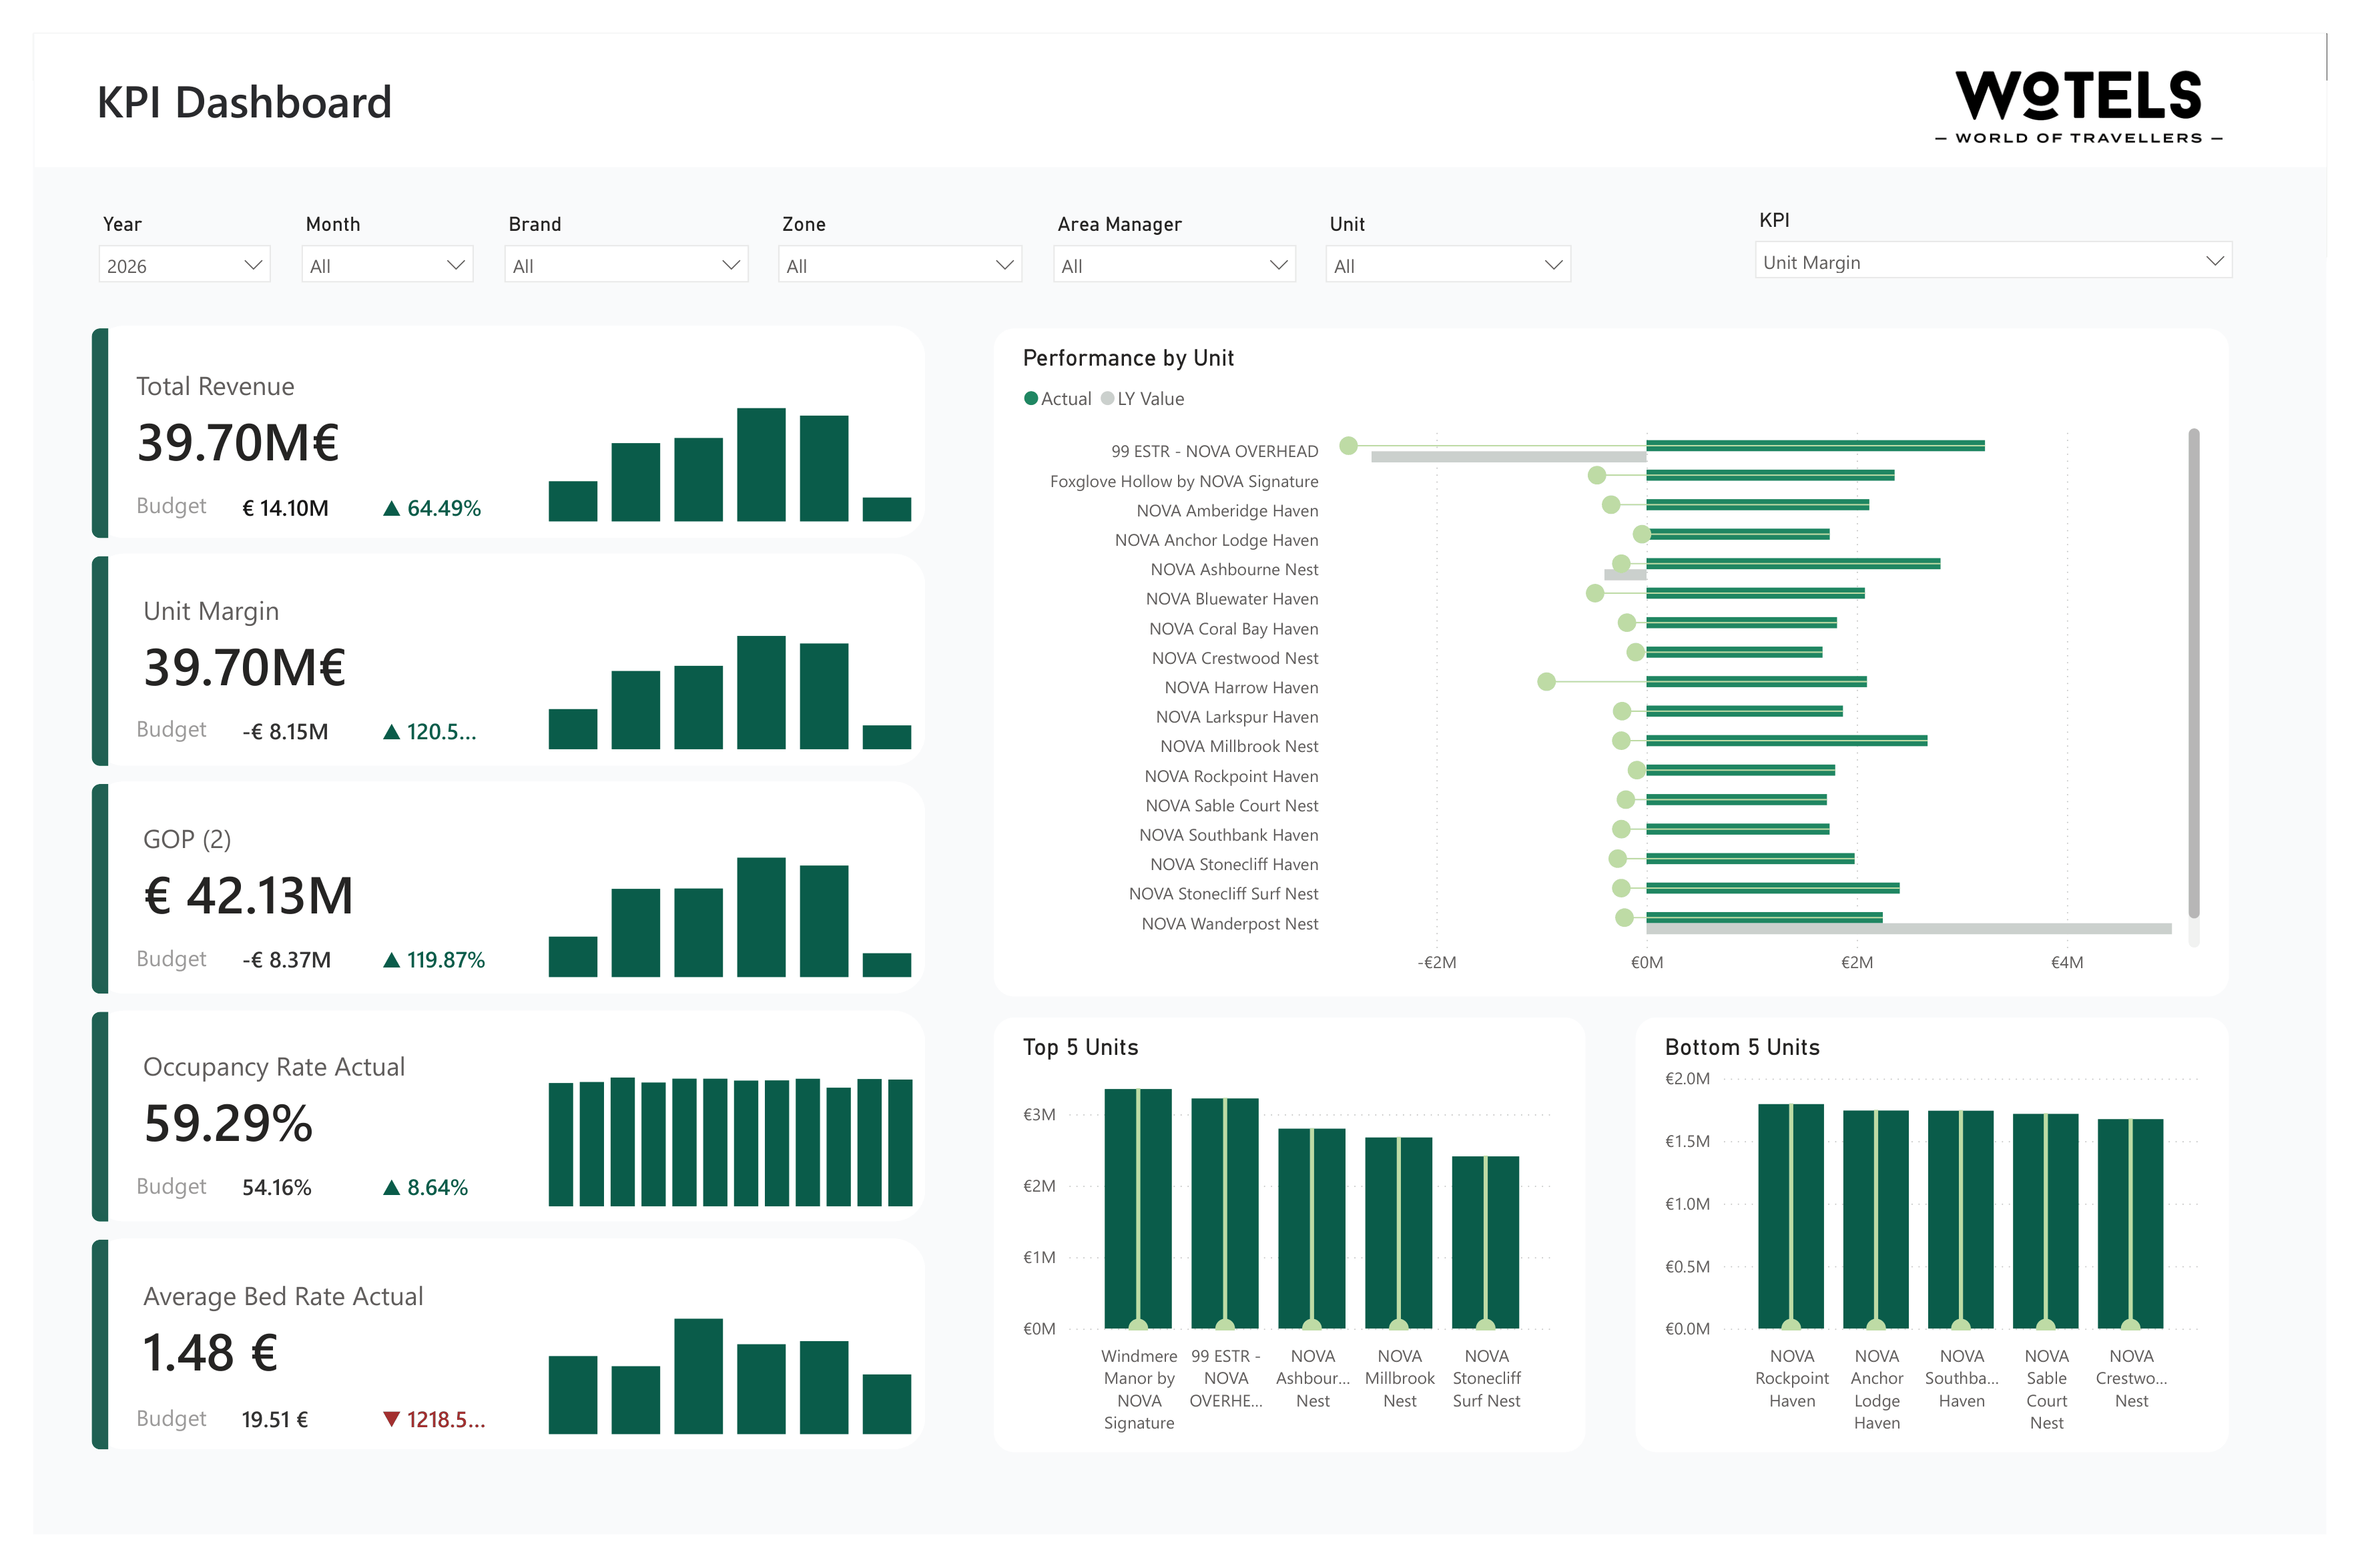

This screenshot's page, from the dashboard's own definition file:
{"tool":"powerbi","page":{"name":"KPIs Dashboard","canvas":[1650,1080],"ordinal":0},"visuals":[{"type":"group","id":"g1","title":"Background Shapes","box":[1.4,0,1918.2,97.7],"z":0},{"type":"shape","box":[1.4,0,1918.2,95.9],"z":1000,"group":"g1"},{"type":"slicer","fields":{"Values":["DateTable.Year"]},"box":[41.7,124.3,139.3,72.4],"z":1000},{"type":"image","box":[1365.2,1.8,213.5,95.9],"z":2000,"group":"g1"},{"type":"shape","box":[41.9,210.3,600,152.8],"z":2000},{"type":"textbox","box":[40.5,19.9,244.3,61.5],"z":3000,"group":"g1"},{"type":"shape","box":[41.9,374.4,600,152.8],"z":3000},{"type":"shape","box":[41.9,538.5,600,152.8],"z":4000},{"type":"shape","box":[41.9,702.6,600,152.8],"z":5000},{"type":"shape","box":[41.9,866.7,600,152.8],"z":6000},{"type":"shape","box":[41.9,212.1,12.4,151],"z":7000},{"type":"clusteredBarChart","title":"Performance by Unit","fields":{"Category":["units.Unit Description"],"Y":["KPI Table.Actual Value","KPI Table.LY Value"]},"box":[691,211.7,888.5,481.4],"z":8000},{"type":"shape","box":[41.9,376.2,12.4,151],"z":9000},{"type":"shape","box":[41.9,540.3,12.4,151],"z":10000},{"type":"shape","box":[41.9,704.4,12.4,151],"z":11000},{"type":"shape","box":[41.9,868.4,12.4,151],"z":12000},{"type":"cardVisual","fields":{"Data":["OccupancyKPIs.Rendimentos Actual"]},"box":[62.2,223.1,315,105],"z":13000},{"type":"lineClusteredColumnComboChart","title":"Top 5 Units","fields":{"Category":["units.Unit Description"],"Y":["KPI Table.Actual Value"]},"box":[691.3,707.6,426,313.1],"z":14000},{"type":"cardVisual","fields":{"Data":["OccupancyKPIs.Unit Margin Actual"]},"box":[62.2,387.2,315,105],"z":15000},{"type":"cardVisual","fields":{"Data":["OccupancyKPIs.GOP (2) Actual"]},"box":[62.2,551.3,315,105],"z":16000},{"type":"cardVisual","fields":{"Data":["OccupancyKPIs.Occupancy Rate Actual"]},"box":[62.2,715.4,315,105],"z":17000},{"type":"cardVisual","fields":{"Data":["OccupancyKPIs.Average Bed Rate Actual"]},"box":[62.2,879.5,315,105],"z":18000},{"type":"textbox","box":[68.8,323.1,121.7,31.7],"z":19000},{"type":"textbox","box":[68.8,484.4,121.7,31.7],"z":20000},{"type":"textbox","box":[68.8,648.5,121.7,31.7],"z":21000},{"type":"textbox","box":[68.8,812.6,121.7,31.7],"z":22000},{"type":"textbox","box":[68.8,979.5,121.7,31.7],"z":23000},{"type":"cardVisual","fields":{"Data":["OccupancyKPIs.Rendimentos Budget","OccupancyKPIs.Rendimentos Variance %"]},"box":[132.9,317.5,212.8,42.9],"z":24000},{"type":"cardVisual","fields":{"Data":["OccupancyKPIs.Unit Margin Budget","OccupancyKPIs.Unit Margin Variance %"]},"box":[132.9,478.8,212.8,42.9],"z":25000},{"type":"cardVisual","fields":{"Data":["OccupancyKPIs.GOP (2) Budget","OccupancyKPIs.GOP (2) Variance %"]},"box":[132.9,642.9,212.8,42.9],"z":26000},{"type":"cardVisual","fields":{"Data":["OccupancyKPIs.Occupancy Rate Budget","OccupancyKPIs.Occupancy Rate Variance"]},"box":[132.9,807,212.8,42.9],"z":27000},{"type":"cardVisual","fields":{"Data":["OccupancyKPIs.Average Bed Rate Budget","OccupancyKPIs.ABR Variance %"]},"box":[132.9,973.9,212.8,42.9],"z":28000},{"type":"clusteredColumnChart","fields":{"Category":["DateTable.Month Short"],"Y":["OccupancyKPIs.Rendimentos Actual"]},"box":[366,216.1,271.8,141.3],"z":29000},{"type":"clusteredColumnChart","fields":{"Category":["DateTable.Month Short"],"Y":["OccupancyKPIs.Unit Margin Actual"]},"box":[366,380.1,271.8,141.3],"z":30000},{"type":"clusteredColumnChart","fields":{"Category":["DateTable.Month Short"],"Y":["OccupancyKPIs.GOP (2) Actual"]},"box":[366,544.2,271.8,141.3],"z":31000},{"type":"clusteredColumnChart","fields":{"Category":["DateTable.Month Short"],"Y":["OccupancyKPIs.Occupancy Rate Actual"]},"box":[366,708.3,271.8,141.3],"z":32000},{"type":"clusteredColumnChart","fields":{"Category":["DateTable.Month Short"],"Y":["OccupancyKPIs.Average Bed Rate Actual"]},"box":[366,872.4,271.8,141.3],"z":33000},{"type":"slicer","title":"KPI","fields":{"Values":["KPI Table.KPI"]},"box":[1234.2,121.2,363.7,79.6],"z":34000},{"type":"slicer","fields":{"Values":["DateTable.Month Name"]},"box":[188.1,124.3,139.3,72.4],"z":35000},{"type":"slicer","fields":{"Values":["units.Brands"]},"box":[333.5,124.3,191.8,72.4],"z":36000},{"type":"slicer","fields":{"Values":["units.ZONE"]},"box":[531.5,124.3,191,72.4],"z":37000},{"type":"slicer","fields":{"Values":["units.Area Manager"]},"box":[728.6,124.3,190,72.4],"z":38000},{"type":"lineClusteredColumnComboChart","title":"Bottom 5 Units","fields":{"Category":["units.Unit Description"],"Y":["KPI Table.Actual Value"]},"box":[1153.5,708,426.7,313.4],"z":39000},{"type":"slicer","fields":{"Values":["units.CODE ID"]},"box":[924.7,124.3,191.8,72.4],"z":40000}]}

Visuals, with their boxes on the page's 1650x1080 design canvas (x1, y1, x2, y2). These are canvas units, not pixel positions in the 2360x1568 screenshot, which may show the page scaled, cropped or inside an application window:
"Background Shapes" group: region(1, 0, 1920, 98)
shape: region(1, 0, 1920, 96)
slicer - DateTable.Year: region(42, 124, 181, 197)
image: region(1365, 2, 1579, 98)
shape: region(42, 210, 642, 363)
textbox: region(40, 20, 285, 81)
shape: region(42, 374, 642, 527)
shape: region(42, 538, 642, 691)
shape: region(42, 703, 642, 855)
shape: region(42, 867, 642, 1020)
shape: region(42, 212, 54, 363)
"Performance by Unit" clusteredBarChart: region(691, 212, 1580, 693)
shape: region(42, 376, 54, 527)
shape: region(42, 540, 54, 691)
shape: region(42, 704, 54, 855)
shape: region(42, 868, 54, 1019)
cardVisual - OccupancyKPIs.Rendimentos Actual: region(62, 223, 377, 328)
"Top 5 Units" lineClusteredColumnComboChart: region(691, 708, 1117, 1021)
cardVisual - OccupancyKPIs.Unit Margin Actual: region(62, 387, 377, 492)
cardVisual - OccupancyKPIs.GOP (2) Actual: region(62, 551, 377, 656)
cardVisual - OccupancyKPIs.Occupancy Rate Actual: region(62, 715, 377, 820)
cardVisual - OccupancyKPIs.Average Bed Rate Actual: region(62, 880, 377, 984)
textbox: region(69, 323, 190, 355)
textbox: region(69, 484, 190, 516)
textbox: region(69, 648, 190, 680)
textbox: region(69, 813, 190, 844)
textbox: region(69, 980, 190, 1011)
cardVisual - OccupancyKPIs.Rendimentos Budget x OccupancyKPIs.Rendimentos Variance %: region(133, 318, 346, 360)
cardVisual - OccupancyKPIs.Unit Margin Budget x OccupancyKPIs.Unit Margin Variance %: region(133, 479, 346, 522)
cardVisual - OccupancyKPIs.GOP (2) Budget x OccupancyKPIs.GOP (2) Variance %: region(133, 643, 346, 686)
cardVisual - OccupancyKPIs.Occupancy Rate Budget x OccupancyKPIs.Occupancy Rate Variance: region(133, 807, 346, 850)
cardVisual - OccupancyKPIs.Average Bed Rate Budget x OccupancyKPIs.ABR Variance %: region(133, 974, 346, 1017)
clusteredColumnChart - DateTable.Month Short x OccupancyKPIs.Rendimentos Actual: region(366, 216, 638, 357)
clusteredColumnChart - DateTable.Month Short x OccupancyKPIs.Unit Margin Actual: region(366, 380, 638, 521)
clusteredColumnChart - DateTable.Month Short x OccupancyKPIs.GOP (2) Actual: region(366, 544, 638, 686)
clusteredColumnChart - DateTable.Month Short x OccupancyKPIs.Occupancy Rate Actual: region(366, 708, 638, 850)
clusteredColumnChart - DateTable.Month Short x OccupancyKPIs.Average Bed Rate Actual: region(366, 872, 638, 1014)
"KPI" slicer: region(1234, 121, 1598, 201)
slicer - DateTable.Month Name: region(188, 124, 327, 197)
slicer - units.Brands: region(334, 124, 525, 197)
slicer - units.ZONE: region(532, 124, 722, 197)
slicer - units.Area Manager: region(729, 124, 919, 197)
"Bottom 5 Units" lineClusteredColumnComboChart: region(1154, 708, 1580, 1021)
slicer - units.CODE ID: region(925, 124, 1116, 197)
